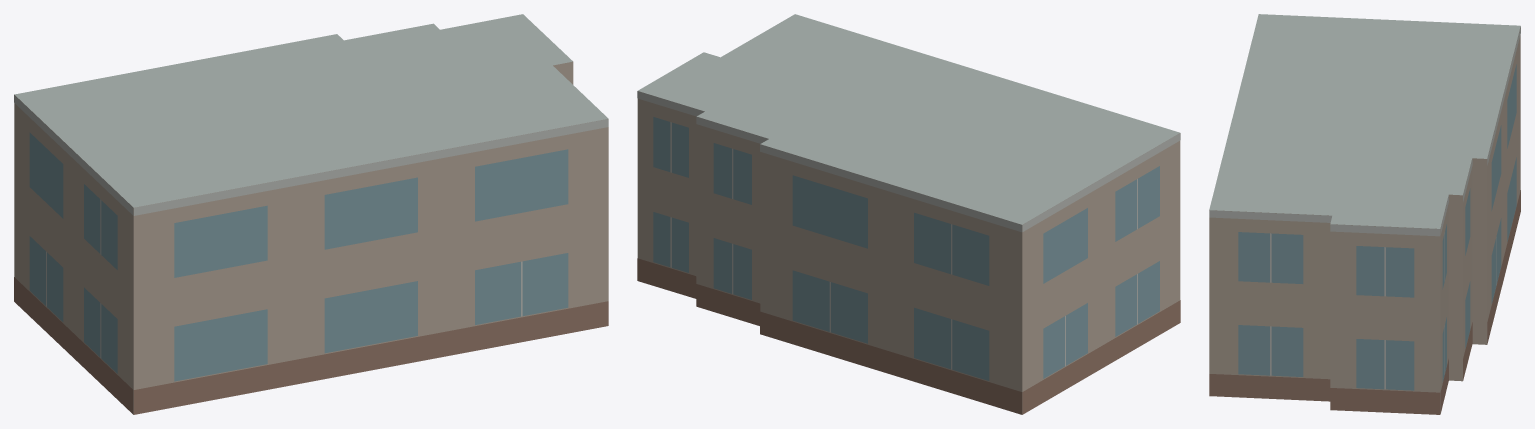
File: survey-upis-32815758.glb
3 views of the same model, side by side, from view 1: azimuth 30°, elevation 25°; view 2: azimuth 150°, elevation 25°; view 3: azimuth 270°, elevation 25° (orthographic). The views are drawn at different scales.
Parts seen in each view (by area): view 1: survey-upis-32815758.tmp; view 2: survey-upis-32815758.tmp; view 3: survey-upis-32815758.tmp.
Part boxes in pixels (x1,y1,x2,y2): survey-upis-32815758.tmp: (14, 14, 608, 414); survey-upis-32815758.tmp: (637, 14, 1180, 414); survey-upis-32815758.tmp: (1209, 14, 1520, 414).
Bounding box in the file's own units: 15.13 × 6.1 × 9.27.
